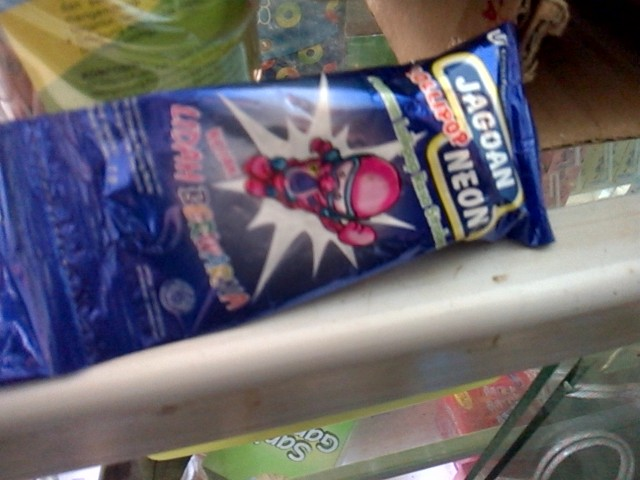jagoan neon: (35, 21, 557, 364)
